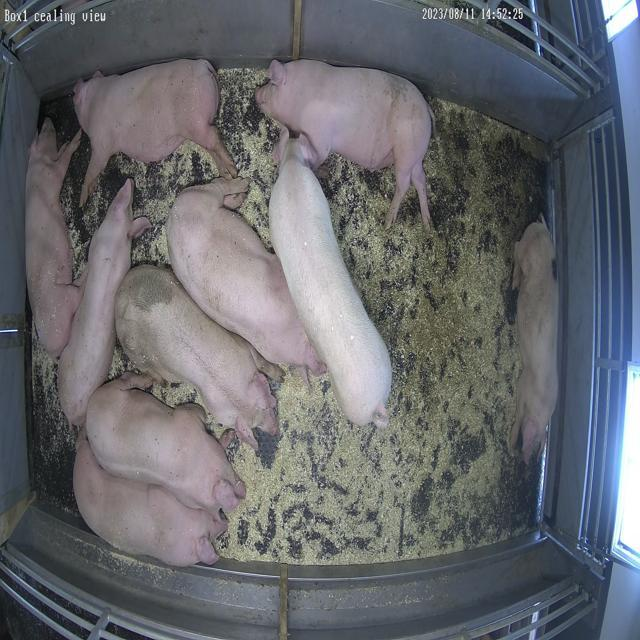Dirt: (370, 100, 546, 406)
Pig: (269, 127, 392, 428), (167, 178, 325, 374), (256, 59, 433, 225), (115, 265, 278, 444), (74, 59, 237, 204), (59, 179, 151, 426), (85, 374, 245, 512), (73, 432, 226, 568), (25, 118, 82, 358), (512, 222, 559, 464)
